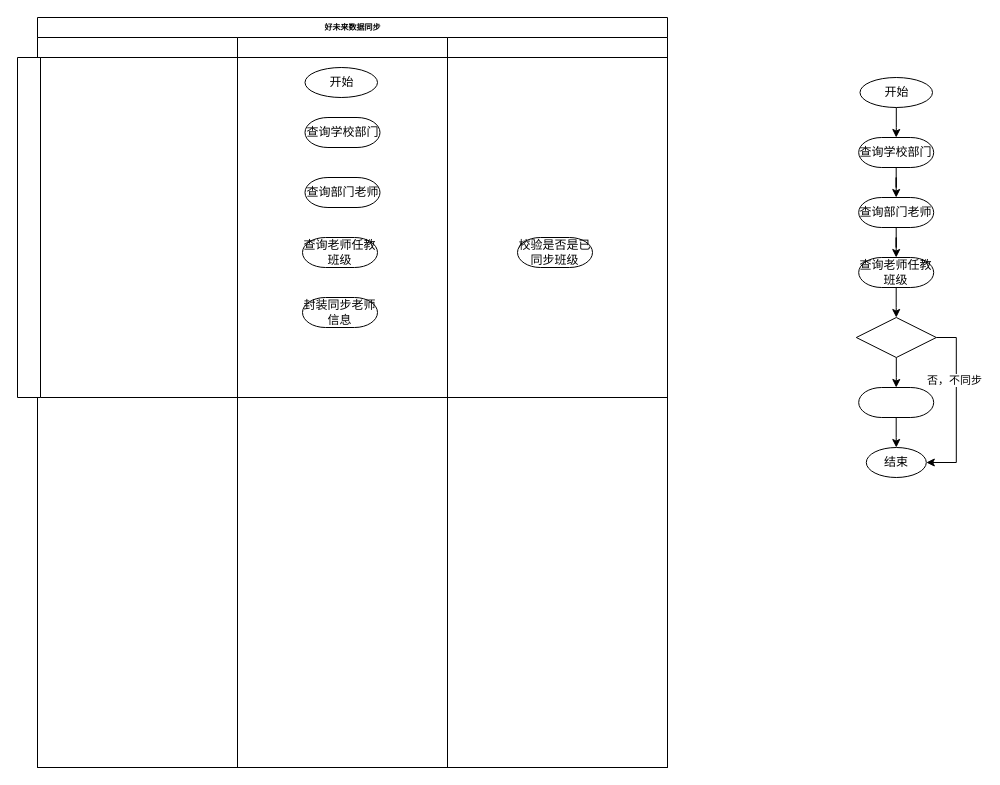
The diagram is 1000 pixels wide and 785 high, and some of its shapes have lost their labels. Here are the shapes that lost their labels. From the top down, the box of each, then its label:
(16, 56, 668, 398): 老师全量数据同步
(855, 316, 936, 358): 是否是已同步班级
(36, 36, 238, 768): 教育号
(236, 36, 448, 768): 数据同步服务
(446, 36, 668, 768): busi服务
(858, 386, 934, 418): 封装同步老师信息并同步
